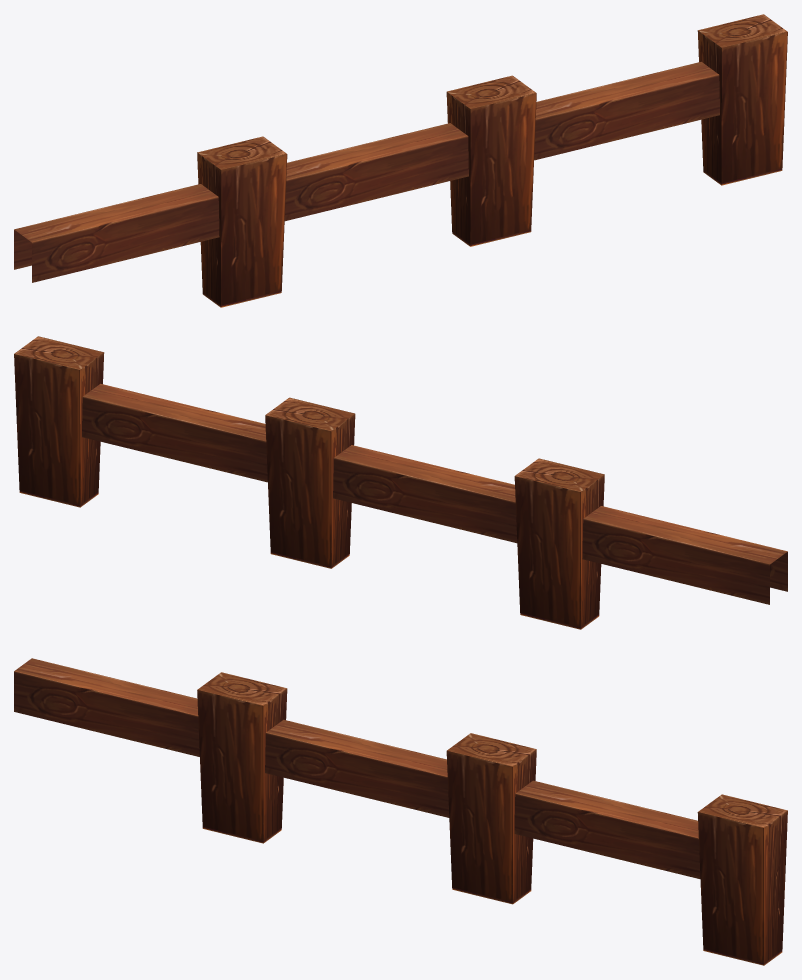
Rendered from ZhaLan01.FBX.
3 renders of one model, top to bottom at view 1: azimuth 30°, elevation 25°; view 2: azimuth 150°, elevation 25°; view 3: azimuth 330°, elevation 25°, orthographic.
Parts seen in each view (by area): view 1: 对象019; view 2: 对象019; view 3: 对象019.
Boxes of the visible parts, box(x1,y1,x2,y2) form: 对象019: box(14, 14, 787, 307); 对象019: box(14, 336, 787, 629); 对象019: box(14, 658, 787, 965).
Bounding box in the file's own units: 237 × 42.3 × 13.2.
